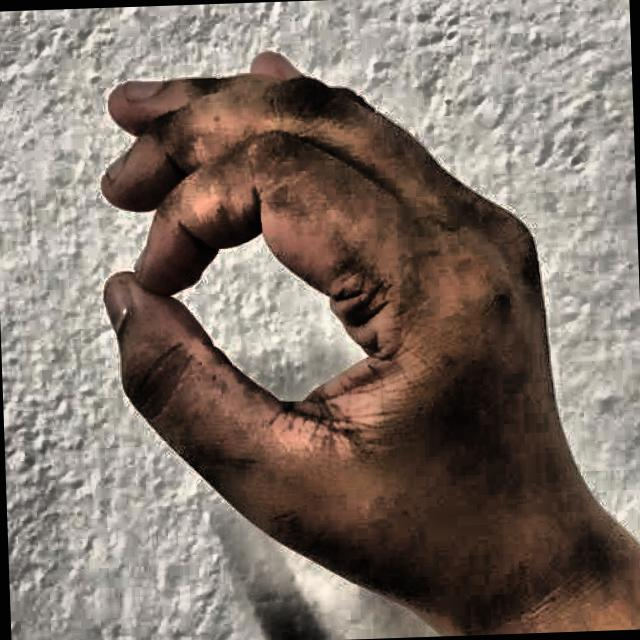Yo: (49, 23, 617, 640)
